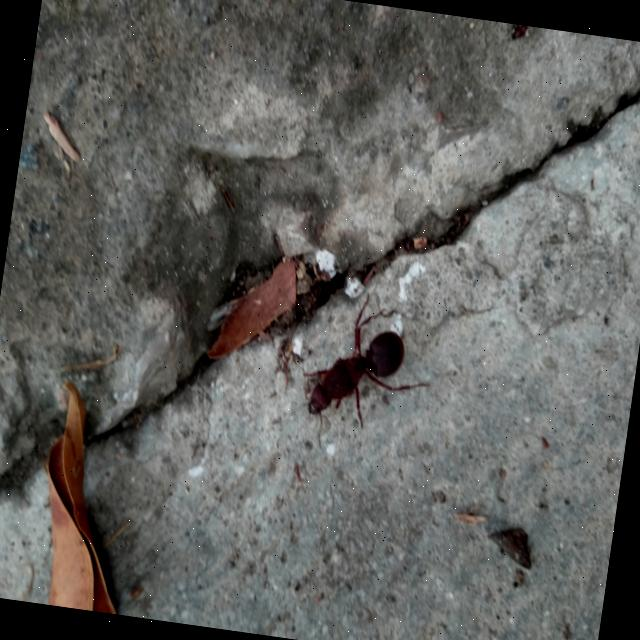Alive-Female-Dealate: (290, 285, 442, 464)
